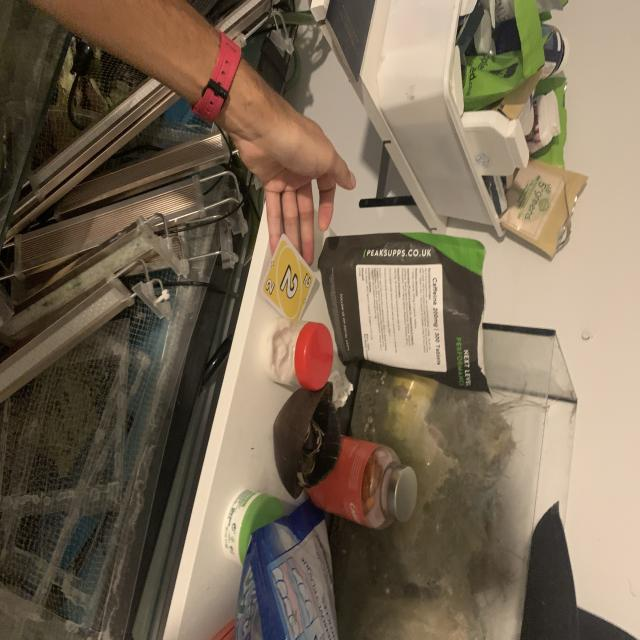lyellow-2: (262, 278, 276, 297)
